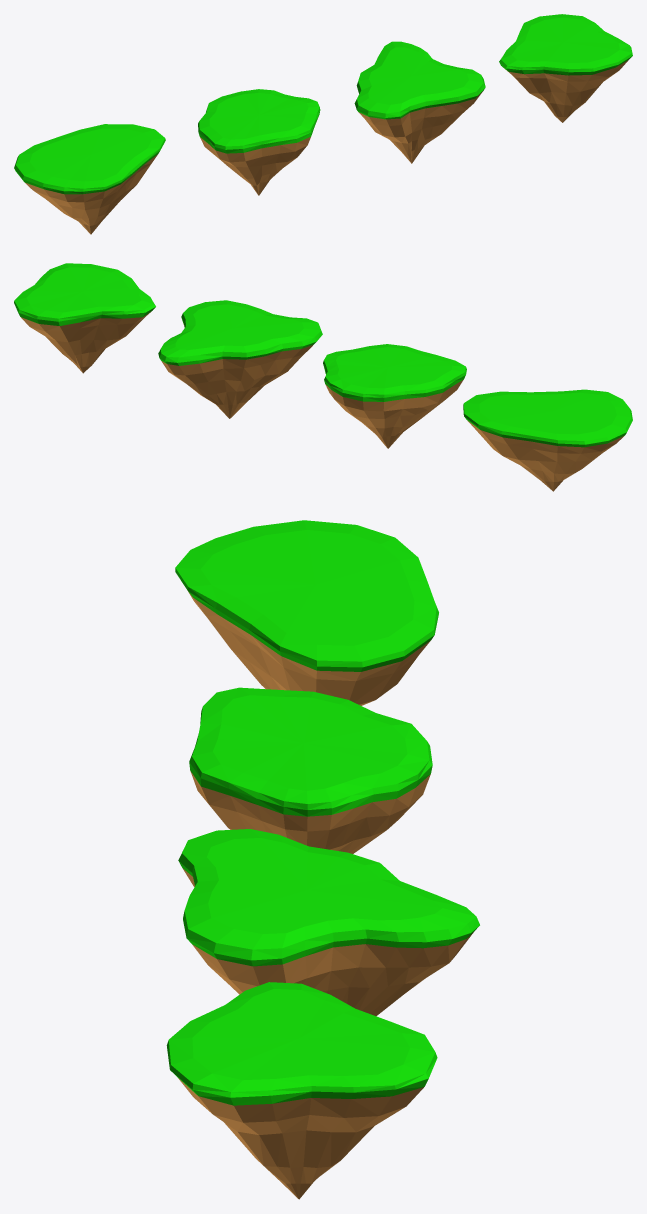
Rendered from Floating Islands Combined.fbx.
The picture shows the model from 3 angles, top to bottom: view 1: azimuth 30°, elevation 25°; view 2: azimuth 150°, elevation 25°; view 3: azimuth 270°, elevation 25°; orthographic projection. The views are drawn at different scales.
Visible parts, largest first — view 1: Island C, Island B, Island D, Island A; view 2: Island B, Island C, Island A, Island D; view 3: Island B, Island C, Island D, Island A.
Boxes of the visible parts, <box> form: Island C: <box>14,124,165,234</box>; Island B: <box>354,41,485,163</box>; Island D: <box>499,14,632,122</box>; Island A: <box>198,89,320,195</box>; Island B: <box>158,300,322,418</box>; Island C: <box>463,389,632,491</box>; Island A: <box>323,344,466,448</box>; Island D: <box>14,263,155,373</box>; Island B: <box>178,829,479,1016</box>; Island C: <box>175,520,438,705</box>; Island D: <box>166,982,437,1199</box>; Island A: <box>189,687,432,853</box>.
Size of the model in its own units: 593 by 85.47 by 136.
